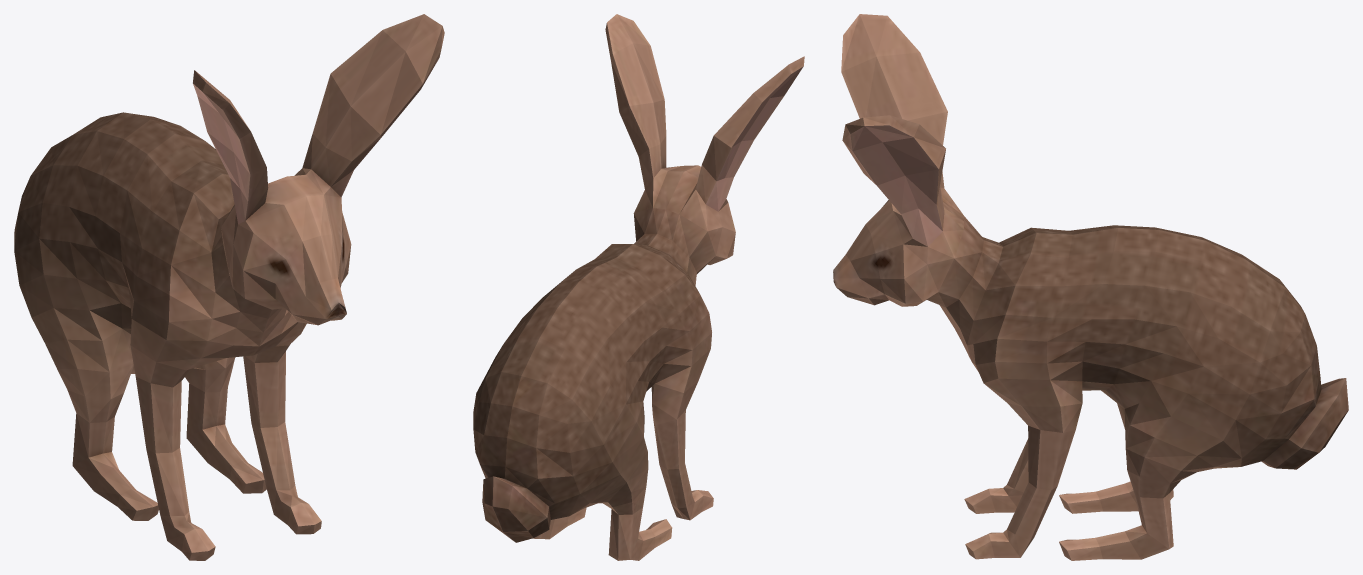
Rendered from hare.glb.
The picture shows the model from 3 angles, left to right: view 1: azimuth 30°, elevation 25°; view 2: azimuth 150°, elevation 25°; view 3: azimuth 270°, elevation 25°; orthographic projection. The views are drawn at different scales.
Visible parts, largest first — view 1: JackRabbit_mesh; view 2: JackRabbit_mesh; view 3: JackRabbit_mesh.
Part boxes in pixels (box(x1,y1,x2,y2)): JackRabbit_mesh: box(14, 14, 444, 560); JackRabbit_mesh: box(473, 14, 804, 560); JackRabbit_mesh: box(833, 14, 1348, 560).
Size of the model in its own units: 0.259 by 0.55 by 0.5488.
1 material, 1 textured.
